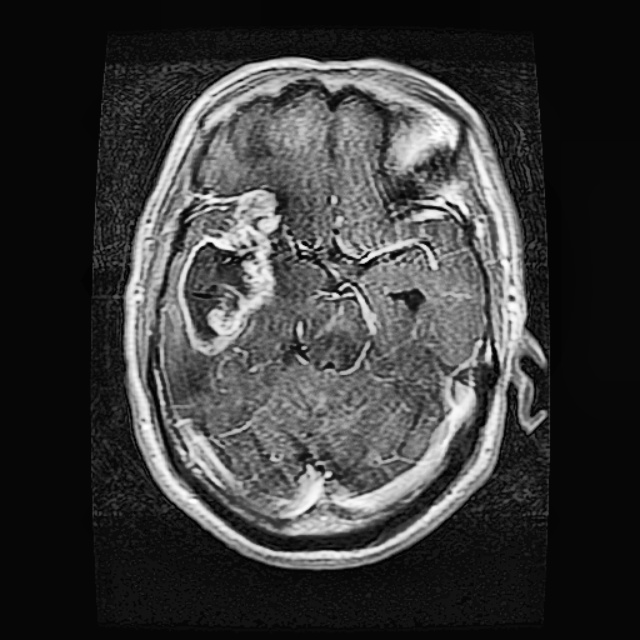Pituitary: (174, 187, 285, 357)
